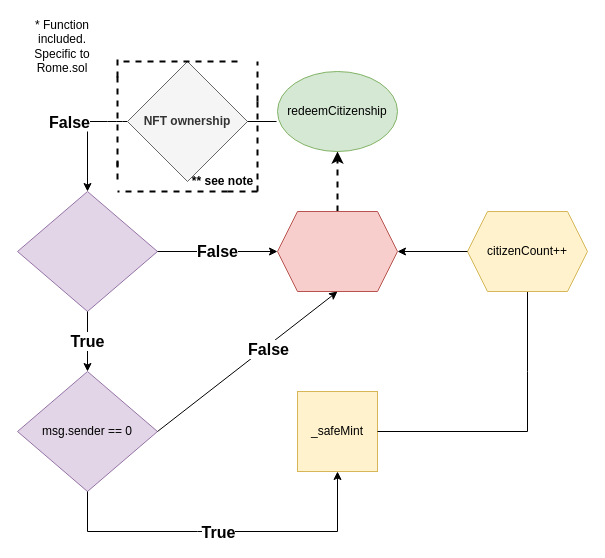
Some shapes in this 605 by 558 pixel diagram are drawn without their labels. The shapes that lost their labels are listed below. From the top down, each one's centre as x and y in pixels, then its label:
At (87,251): "Rome Blance > 20".
At (337,251): "Exit redeemCitizenship".
